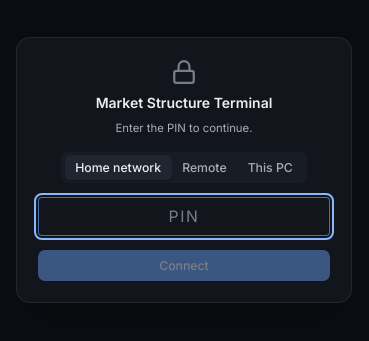
AuthGate › shows the This PC connect button when the This PC tab is selected
The width and height of the screenshot is (369, 341).
Click the radio button labelled "This PC" at (270, 167), box [237,155,303,180]
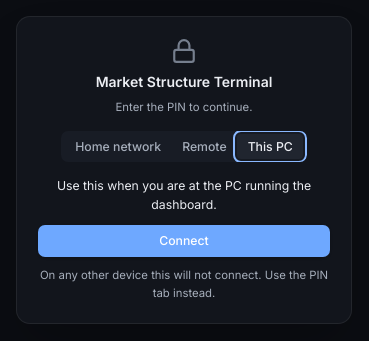
Expected: the button "Connect" is shown, [38,225,330,256]
Expected: the text "On any other device this will not connect" is shown, [40,268,328,300]
